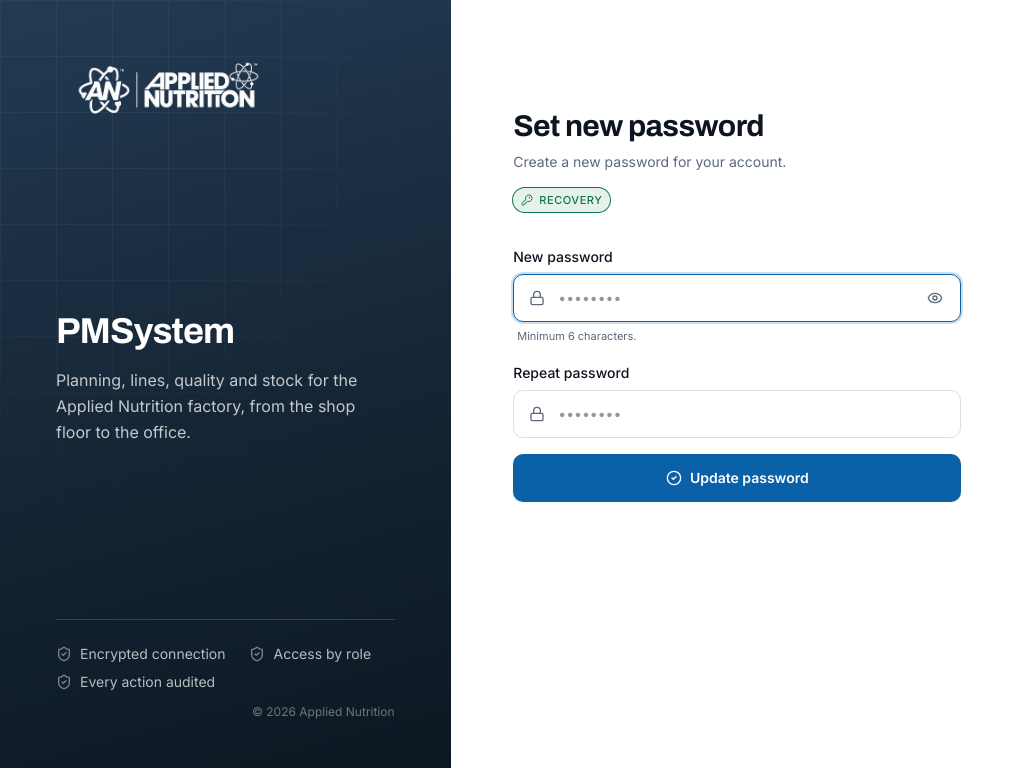
Test: ResetPassword › refuses two passwords that don't match, before calling supabase
In the password field labelled "New password": point(737, 298) x1=513 y1=274 x2=961 y2=322, type "secret123"
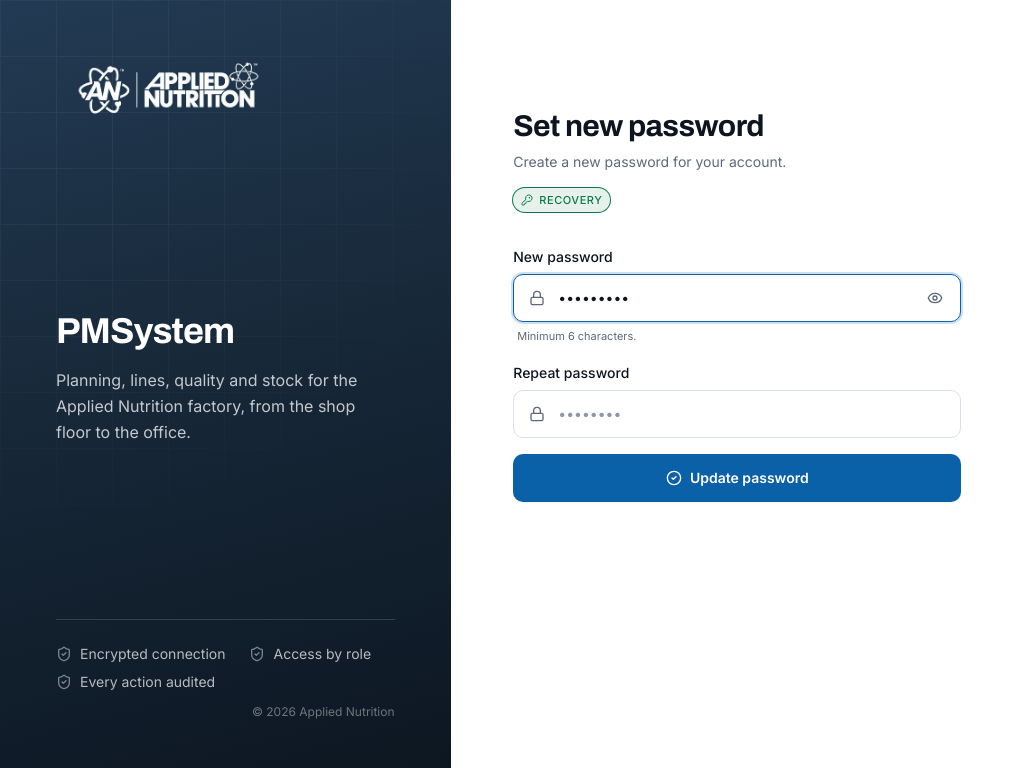
In the password field labelled "Repeat password": point(737, 414) x1=513 y1=390 x2=961 y2=438, type "secret124"
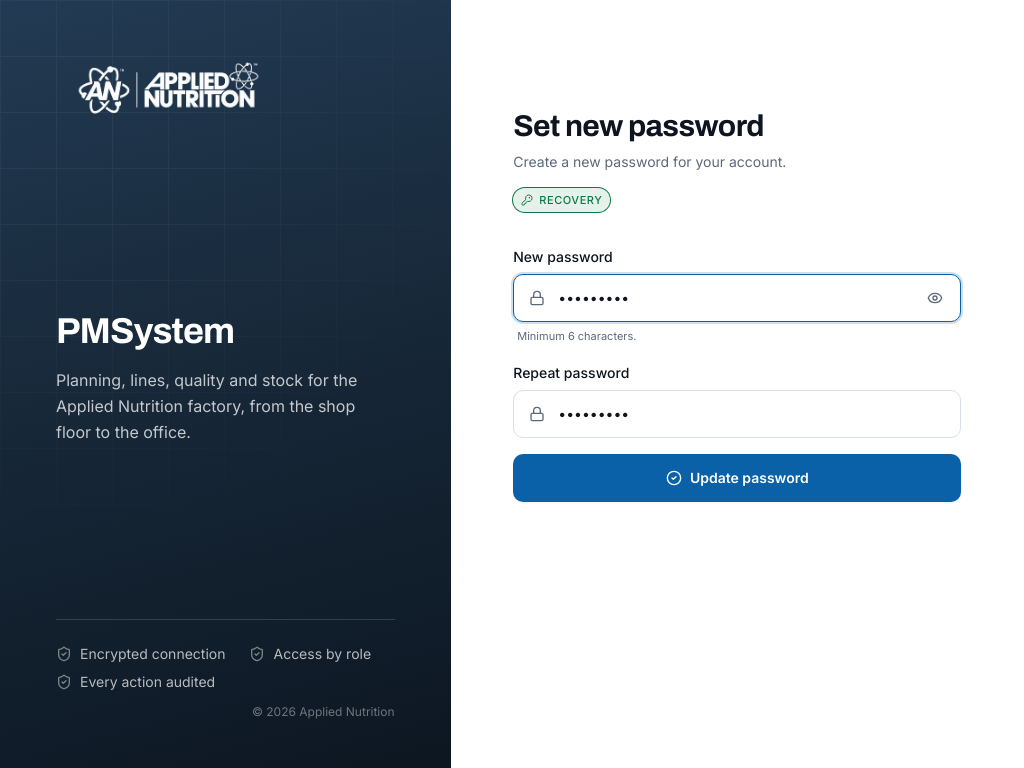
Click the button "Update password": point(737, 478) x1=513 y1=454 x2=961 y2=502
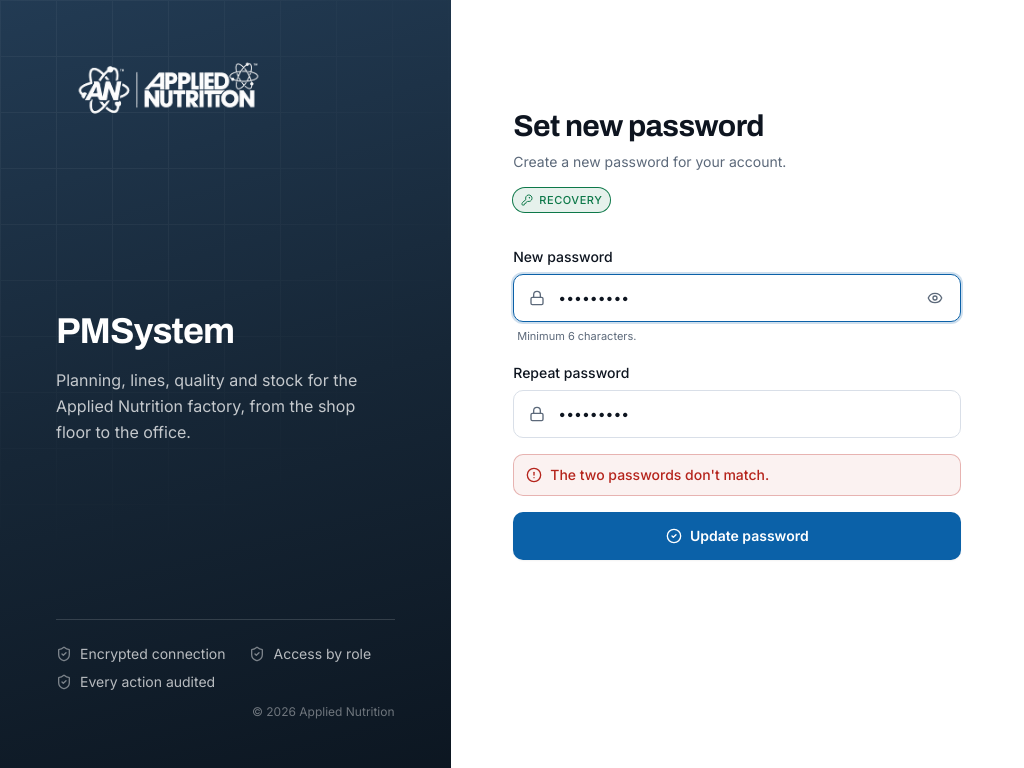
Result: the message shows "don't match" at x1=550 y1=466 x2=769 y2=482
